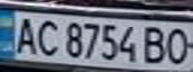4: (115, 22, 142, 63)
5: (100, 21, 121, 62)
7: (78, 20, 103, 61)
8: (60, 19, 84, 60)
A: (9, 15, 39, 55)
B: (139, 24, 172, 65)
C: (33, 17, 63, 56)
O: (163, 25, 193, 65)
